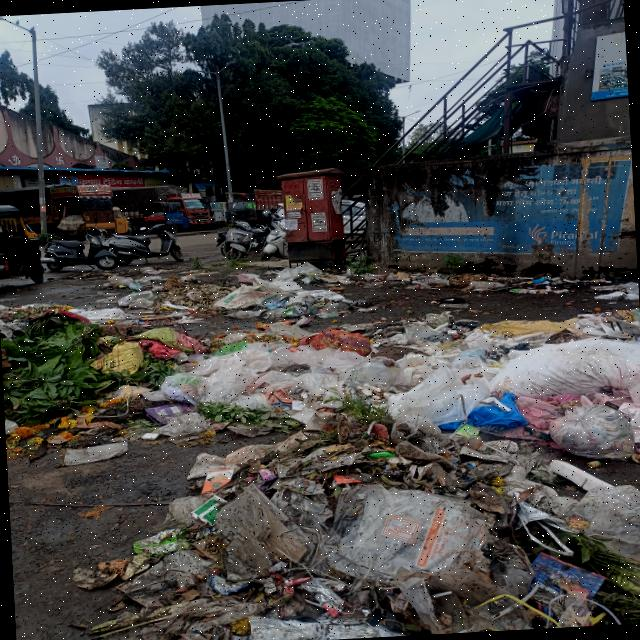garbage: (147, 427, 640, 640), (0, 256, 347, 438), (346, 293, 640, 473)
